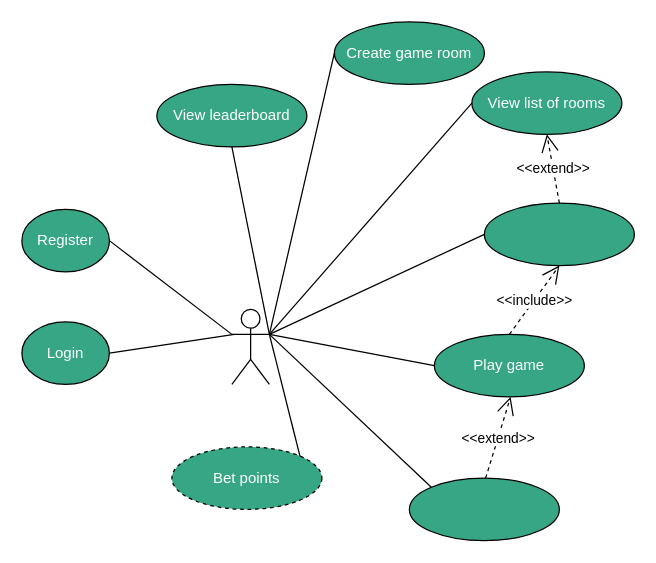
Image size: 656x563. Some labels were removed from this diagram. Here are the shapes that lost their labels. From the top down, the box of each, then its label:
(483, 202, 634, 266): Join game room
(231, 308, 269, 384): User
(408, 477, 559, 541): Chat while playing
